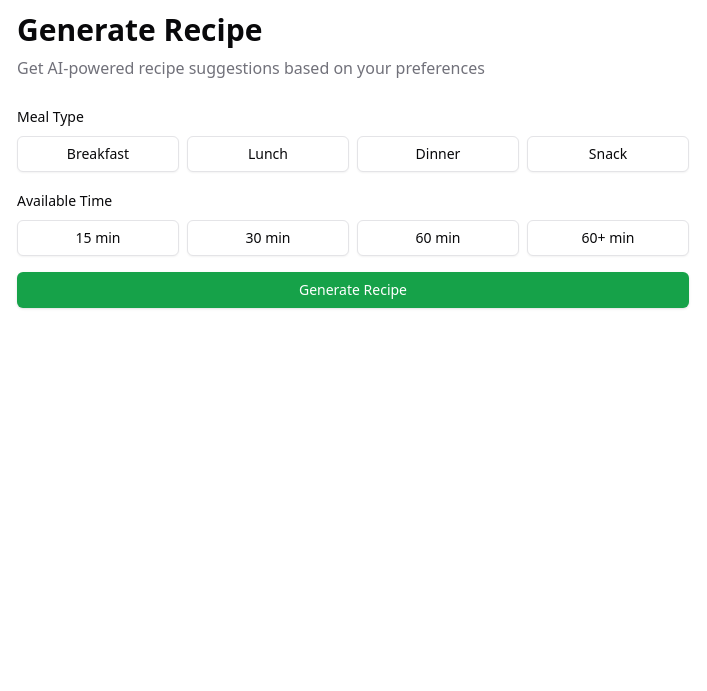
Test: RecipeGenerator › displays generated recipe on success
Click the button "Lunch".
click(268, 154)  # box [187,136,349,172]
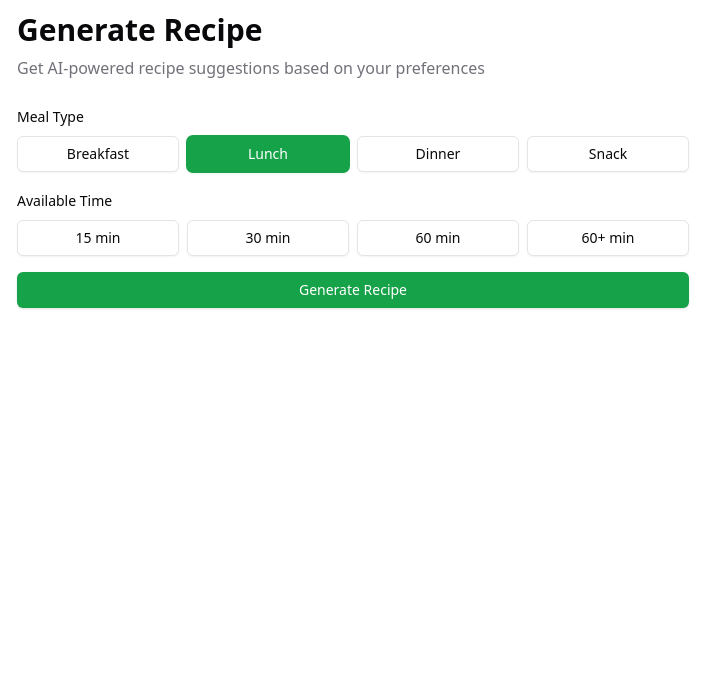
Click the button "15 min".
click(98, 238)  # box [17,220,179,256]
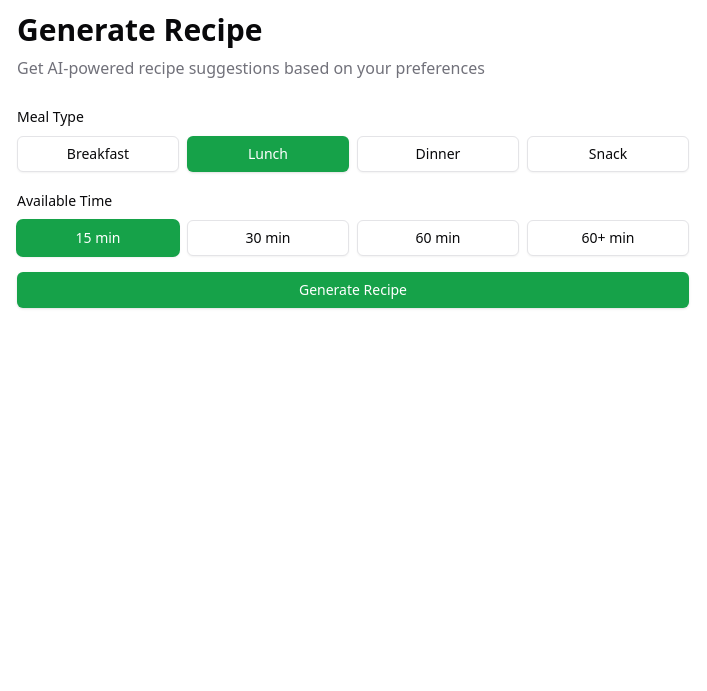
Click the button "Generate Recipe".
click(353, 290)  # box [17,272,689,308]
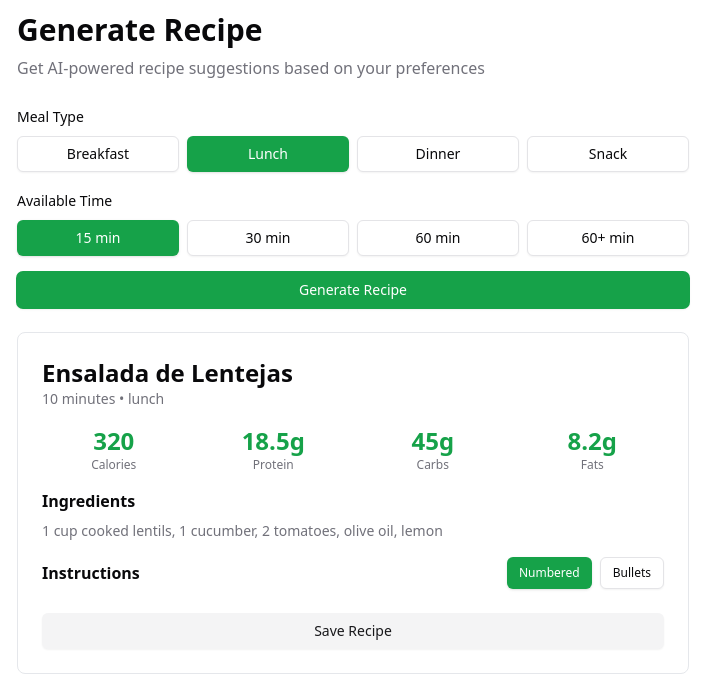
Now the heading "Ensalada de Lentejas" is shown, box [42,356,293,389]
Now the text "320" is shown, box [93,424,134,457]
Now the text "18.5g" is shown, box [242,424,305,457]
